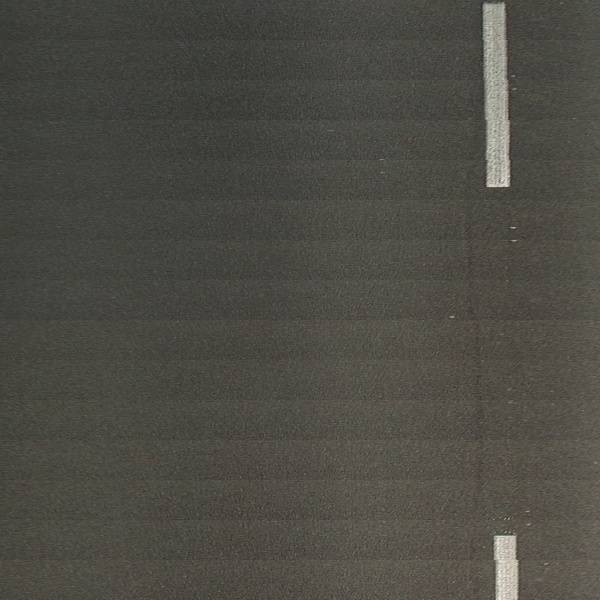road_damage: (465, 207, 488, 509)
